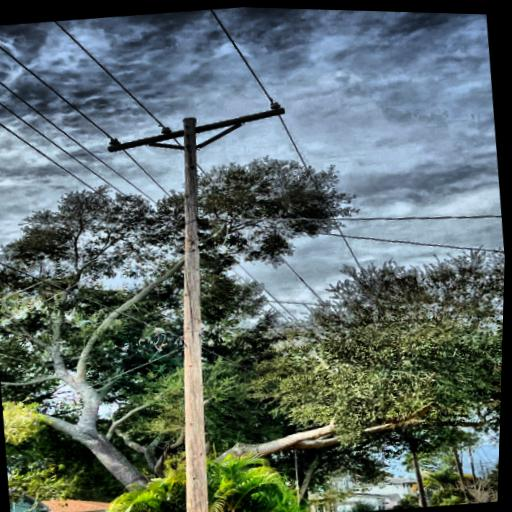insulator: (267, 100, 283, 111), (159, 126, 174, 136), (108, 136, 121, 147)
pole: (124, 106, 260, 512)
